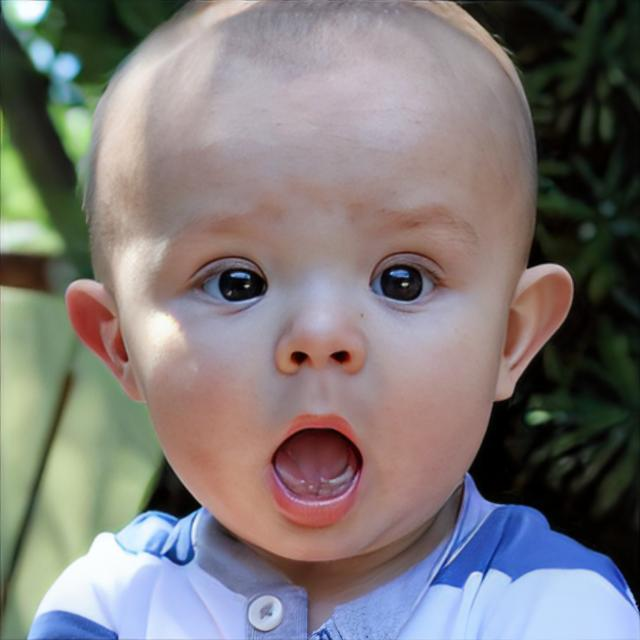surprise: (128, 52, 508, 564)
